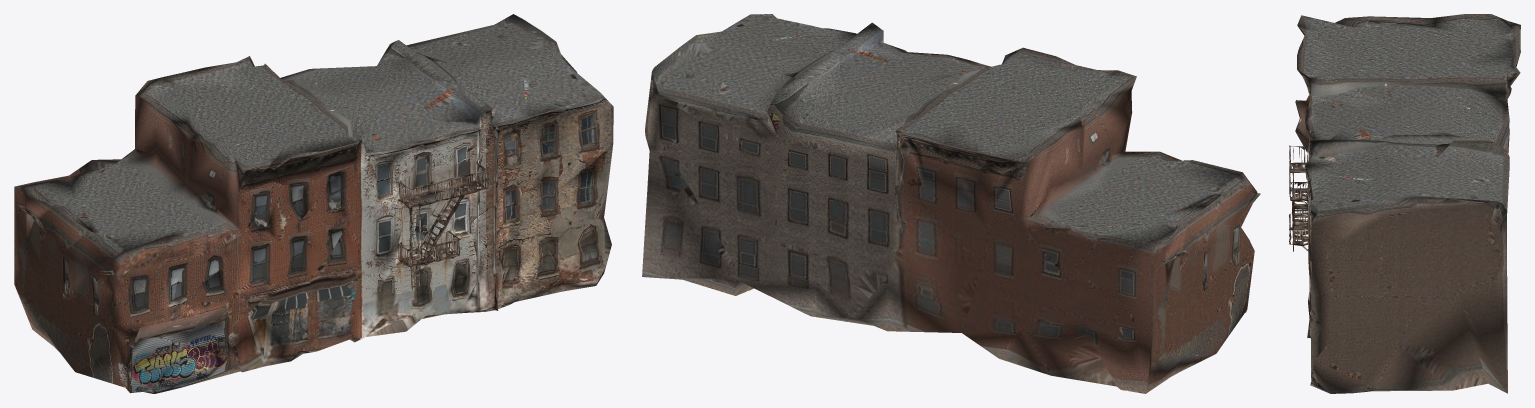
The model's file is row_four_b_hq_lod.glb.
3 renders of one model, left to right at view 1: azimuth 30°, elevation 25°; view 2: azimuth 150°, elevation 25°; view 3: azimuth 270°, elevation 25°, orthographic. The views are drawn at different scales.
Size of the model in its own units: 40.23 by 15.99 by 16.65.
Materials: 1 (1 with a texture image).
